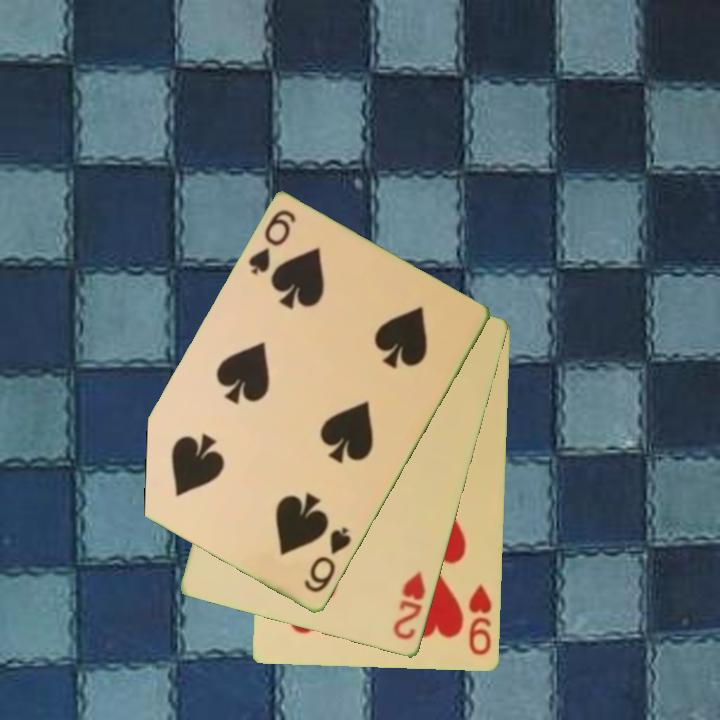2h: (390, 567, 429, 644)
6s: (300, 524, 355, 597), (245, 206, 299, 279)
9h: (466, 580, 495, 658)
